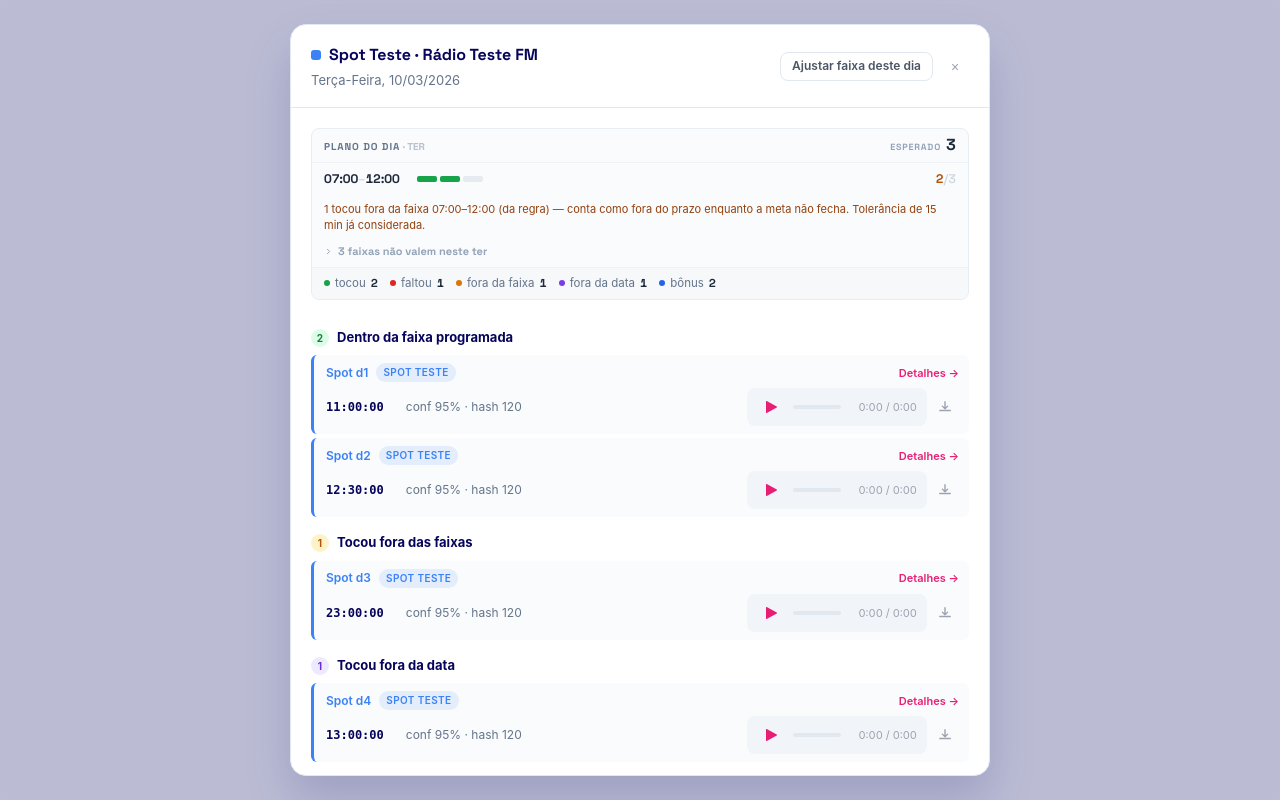
Test: DayDetailModal — plano do dia (só apresentação) › faixas que não valem no dia ficam recolhidas, com o motivo
Check: the text "Spot d1" is shown, box [326,364,368,382]
Check: the text "encerrou 05/03" is not shown
Click the button "3 faixas não valem neste ter": (406, 251) [324,244,487,258]
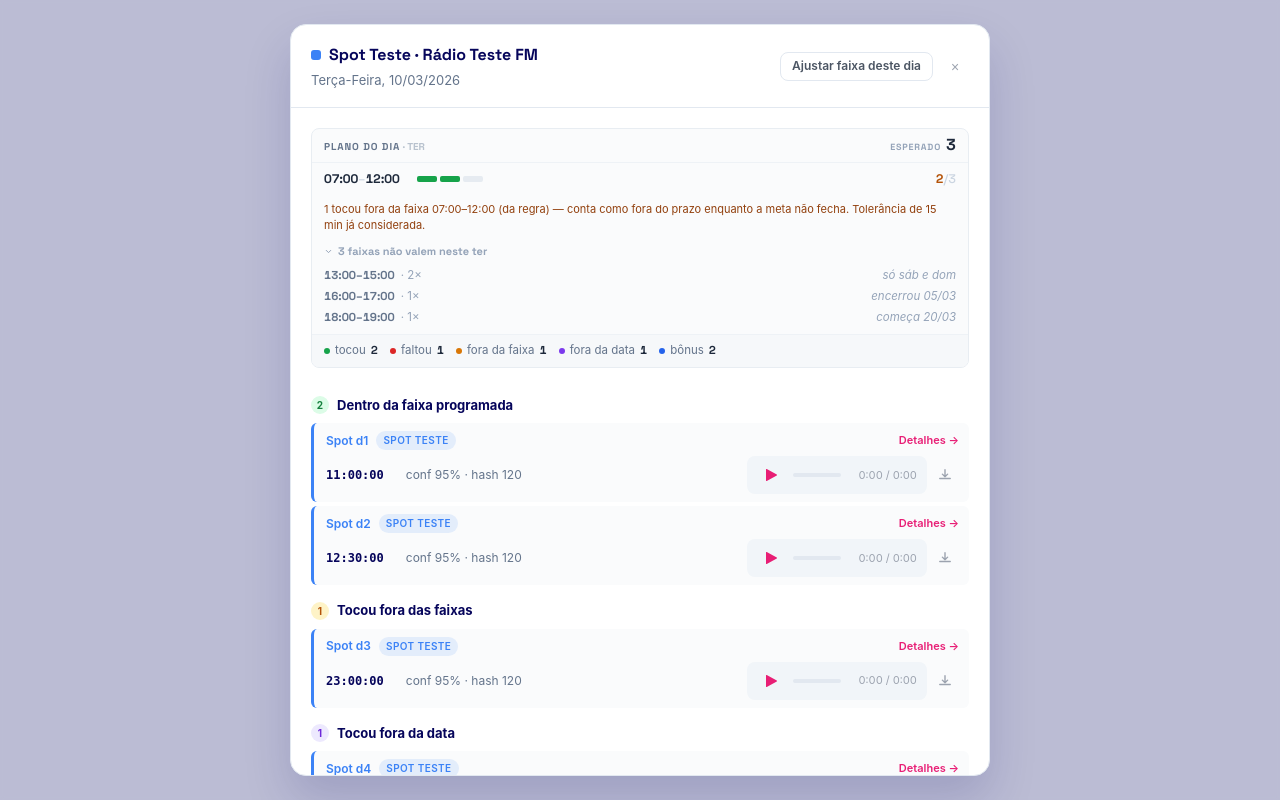
Check: the text "só sáb e dom" is shown, box [882,267,956,284]
Check: the text "encerrou 05/03" is shown, box [871,288,956,305]
Check: the text "começa 20/03" is shown, box [876,309,956,326]
// recolhe de novo
Click the button "3 faixas não valem neste ter": (406, 251) [324,244,487,258]
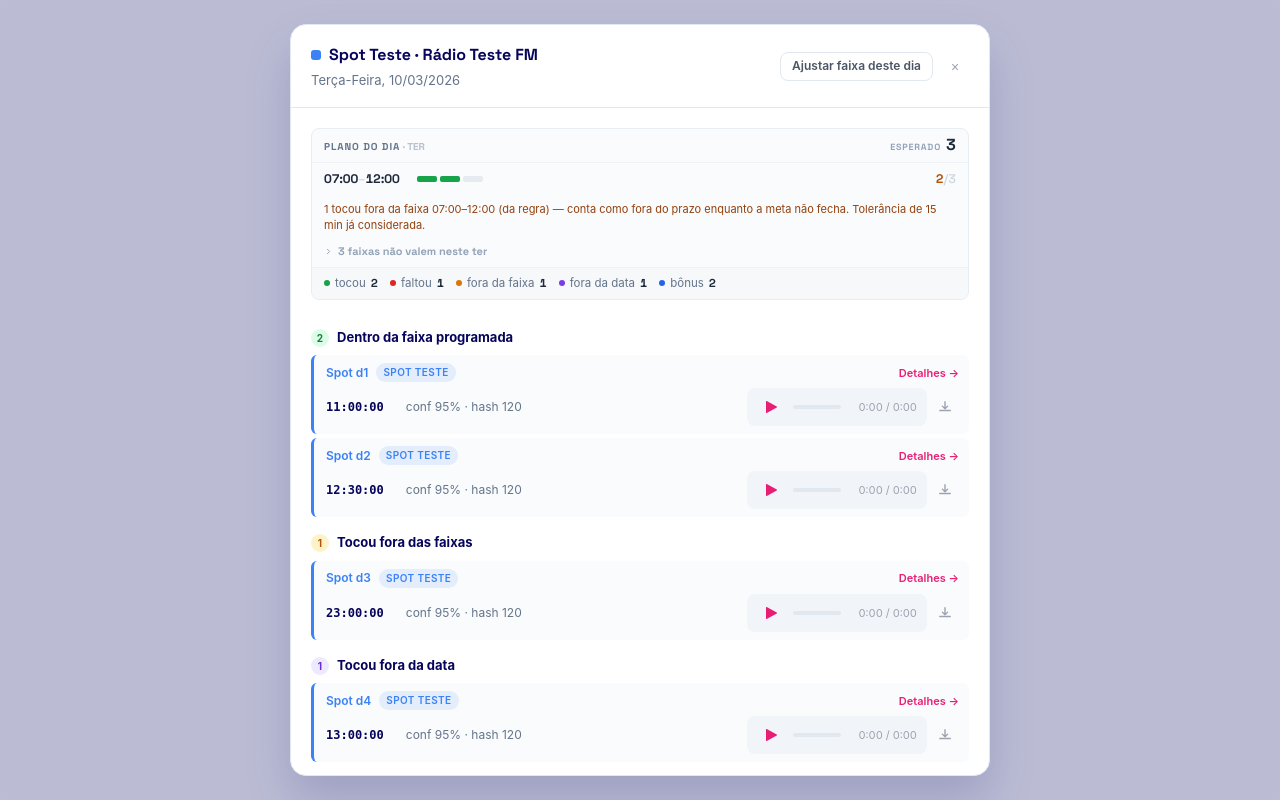
Check: the text "encerrou 05/03" is gone
